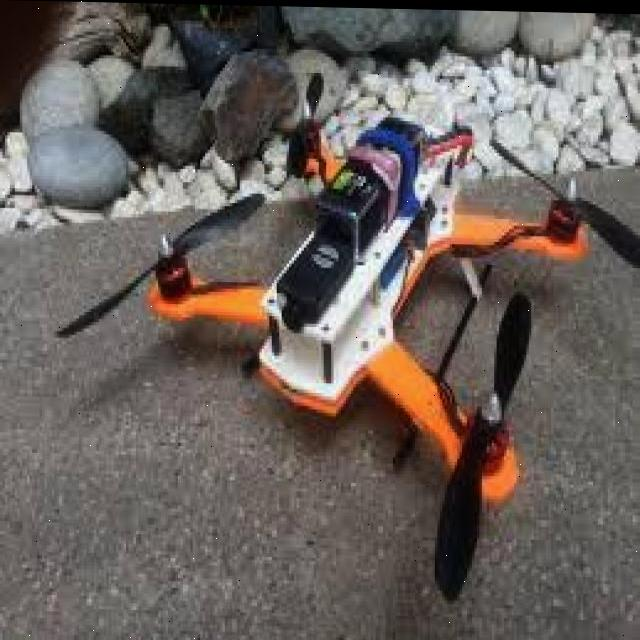drone: (84, 74, 640, 566)
